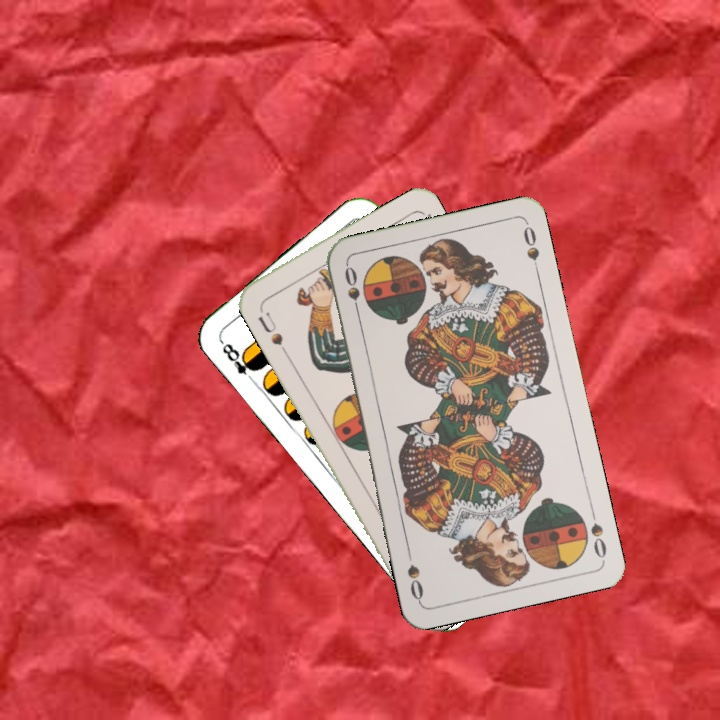E8: (216, 336, 263, 386)
SO: (340, 262, 363, 320), (586, 503, 609, 561)
SU: (254, 307, 286, 348)
